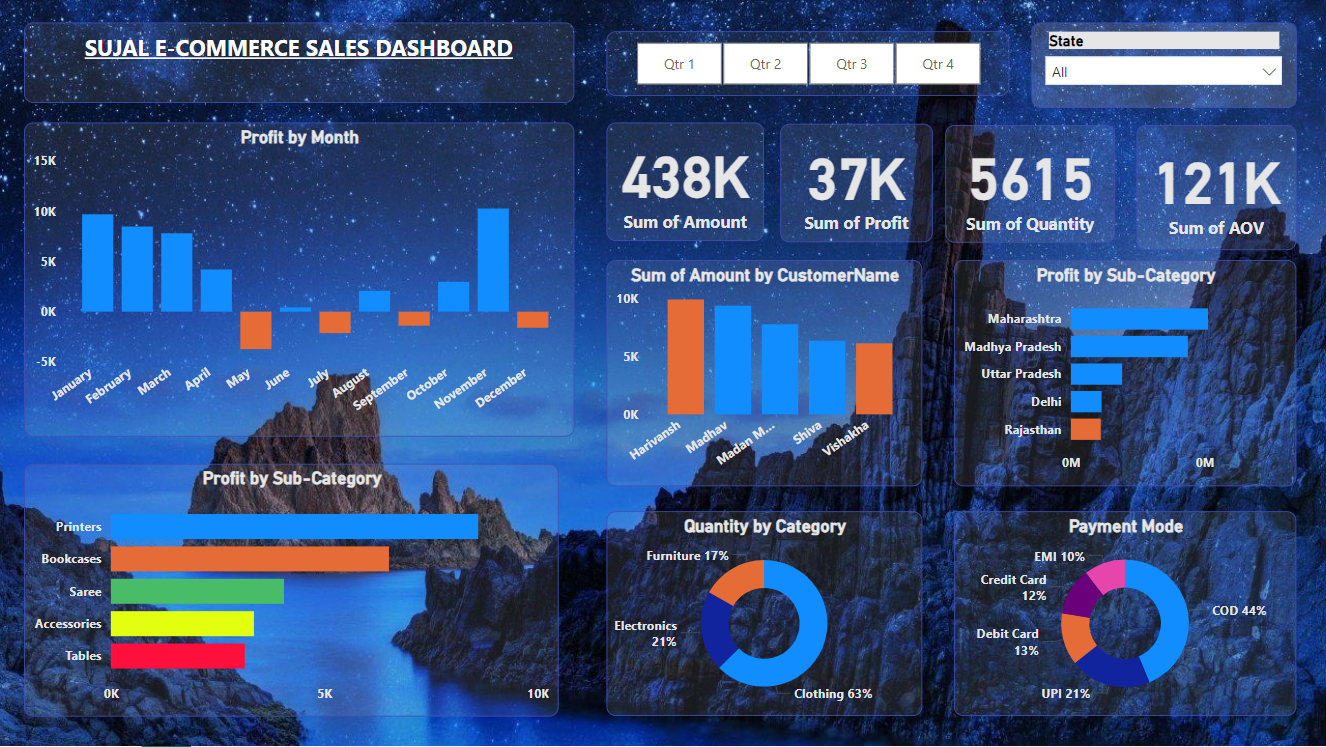

The dashboard page shown, as its layout file describes it:
{"tool":"powerbi","page":{"name":"Page 1","canvas":[1280,720],"ordinal":0},"visuals":[{"type":"textbox","box":[24.1,21.7,530.8,77.2],"z":0},{"type":"clusteredColumnChart","title":"Profit by Month","fields":{"Category":["Orders.Order Date.Variation.Date Hierarchy.Month"],"Y":["Details.Profit"]},"box":[24.7,118,531,303.3],"z":1000},{"type":"barChart","title":"Profit by Sub-Category","fields":{"Category":["Details.Sub-Category"],"Y":["Details.Profit"]},"box":[24.7,447.3,516,244.3],"z":2000},{"type":"donutChart","title":"Quantity by Category","fields":{"Category":["Details.Category"],"Y":["Details.Quantity"]},"box":[585.9,494,304.6,197.6],"z":3000},{"type":"donutChart","title":"Payment Mode","fields":{"Category":["Details.PaymentMode"],"Y":["Details.Quantity"]},"box":[922.1,494,330.7,197.6],"z":4000},{"type":"barChart","title":"Profit by Sub-Category","fields":{"Y":["Details.Amount"],"Category":["Orders.State"]},"box":[922.1,251.1,330.7,218.2],"z":5000},{"type":"columnChart","fields":{"Category":["Orders.CustomerName"],"Y":["Details.Amount"]},"box":[585.9,251.1,304.6,218.2],"z":6000},{"type":"card","fields":{"Values":["Details.Amount"]},"box":[586.3,118.2,152,114.6],"z":7000},{"type":"card","fields":{"Values":["Details.Profit"]},"box":[754,119.4,147.2,114.6],"z":8000},{"type":"card","fields":{"Values":["Details.Quantity"]},"box":[913.3,120.6,164.1,113.4],"z":9000},{"type":"card","fields":{"Values":["Details.AOV"]},"box":[1097.9,120.6,154.4,120.6],"z":10000},{"type":"slicer","fields":{"Values":["Orders.Order Date.Variation.Date Hierarchy.Quarter"]},"box":[586.3,30.2,388.5,62.7],"z":11000},{"type":"slicer","fields":{"Values":["Orders.State"]},"box":[996.5,21.7,255.8,82],"z":11001}]}

Visuals, with their boxes in screenshot pixels (x1, y1, x2, y2), scaled from the page's 1280x720 canvas onto the 1326x747 screenshot:
textbox: [25,23,575,103]
"Profit by Month" clusteredColumnChart: [26,122,576,437]
"Profit by Sub-Category" barChart: [26,464,560,718]
"Quantity by Category" donutChart: [607,513,923,718]
"Payment Mode" donutChart: [955,513,1298,718]
"Profit by Sub-Category" barChart: [955,261,1298,487]
columnChart - Orders.CustomerName x Details.Amount: [607,261,923,487]
card - Details.Amount: [607,123,765,242]
card - Details.Profit: [781,124,934,243]
card - Details.Quantity: [946,125,1116,243]
card - Details.AOV: [1137,125,1297,250]
slicer - Orders.Order Date.Variation.Date Hierarchy.Quarter: [607,31,1010,96]
slicer - Orders.State: [1032,23,1297,108]
